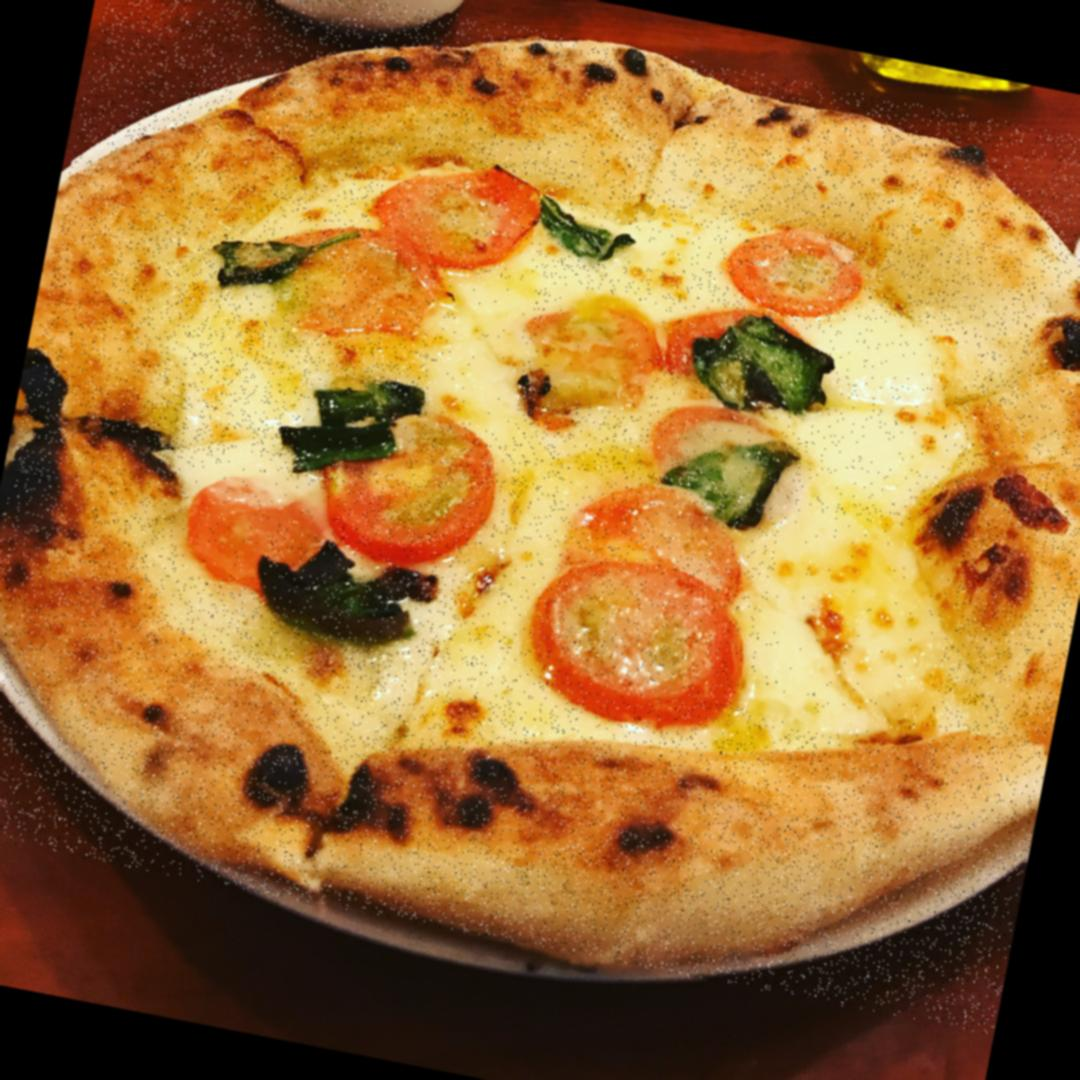Arugula: (256, 526, 441, 654), (682, 303, 838, 432), (656, 428, 801, 537), (282, 368, 425, 478), (210, 208, 354, 315), (534, 190, 633, 268)
Cheese: (744, 507, 964, 754), (799, 315, 980, 523), (148, 307, 321, 474), (442, 486, 567, 710), (496, 396, 656, 506), (427, 272, 537, 431), (624, 200, 744, 288)
Pizza: (0, 0, 1080, 1036)
Tomatoes: (512, 540, 769, 742), (312, 400, 508, 575), (552, 470, 766, 614), (264, 220, 457, 352), (176, 460, 340, 602), (376, 150, 544, 277), (530, 284, 666, 418), (656, 298, 804, 406), (644, 393, 790, 498), (722, 230, 870, 328)
